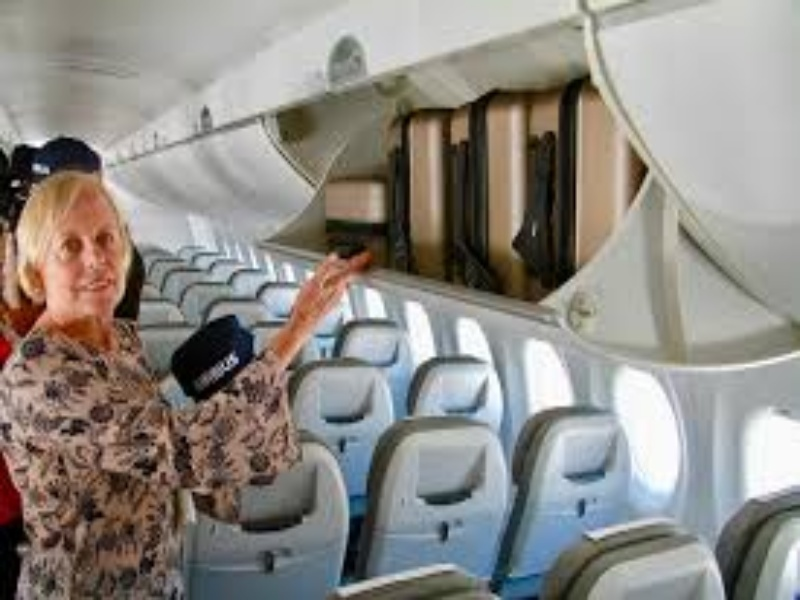close_bin: (173, 106, 312, 225), (121, 141, 174, 199)
open_bin: (280, 1, 799, 350)
